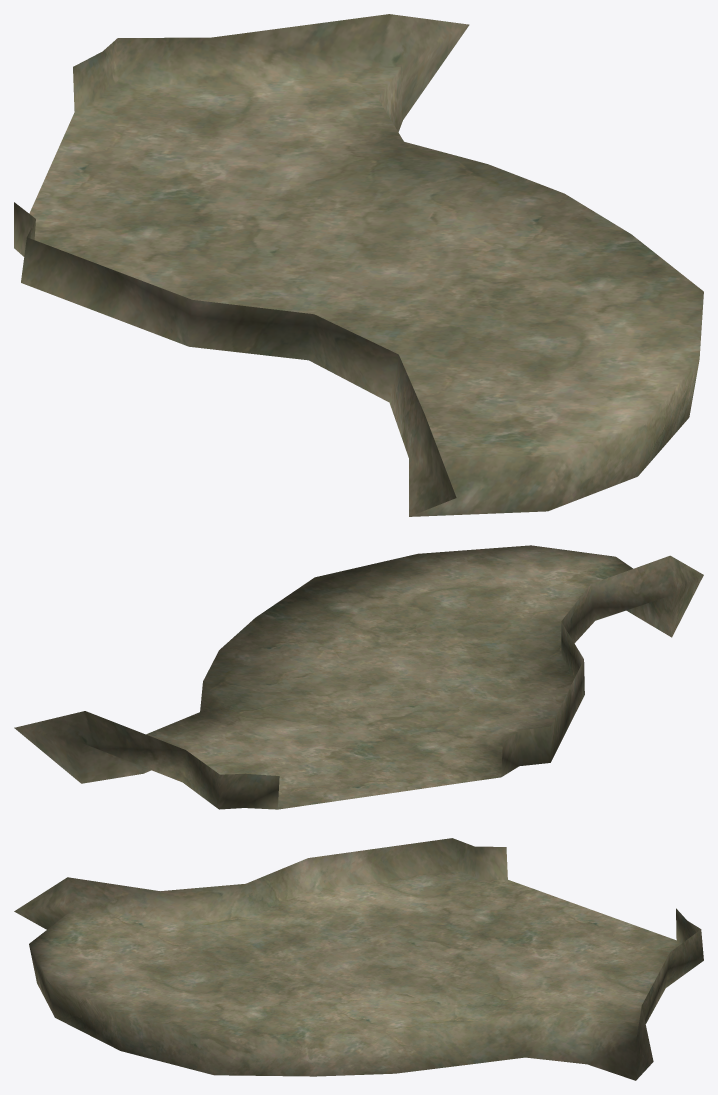
The model's file is EKH_CAVERNS_PS_CA_PLATFORM11114.fbx.
The picture shows the model from 3 angles, top to bottom: view 1: azimuth 30°, elevation 25°; view 2: azimuth 150°, elevation 25°; view 3: azimuth 270°, elevation 25°; orthographic projection. The views are drawn at different scales.
Parts seen in each view (by area): view 1: EKH_CAVERNS_PS_CA_PLATFORM11114; view 2: EKH_CAVERNS_PS_CA_PLATFORM11114; view 3: EKH_CAVERNS_PS_CA_PLATFORM11114.
Boxes of the visible parts, left/top/right/bottom form: EKH_CAVERNS_PS_CA_PLATFORM11114: left=14, top=14, right=703, bottom=516; EKH_CAVERNS_PS_CA_PLATFORM11114: left=14, top=545, right=703, bottom=809; EKH_CAVERNS_PS_CA_PLATFORM11114: left=14, top=838, right=703, bottom=1080.
Bounding box in the file's own units: 65625 × 11168 × 96560.
Materials: 1 (1 with a texture image).
